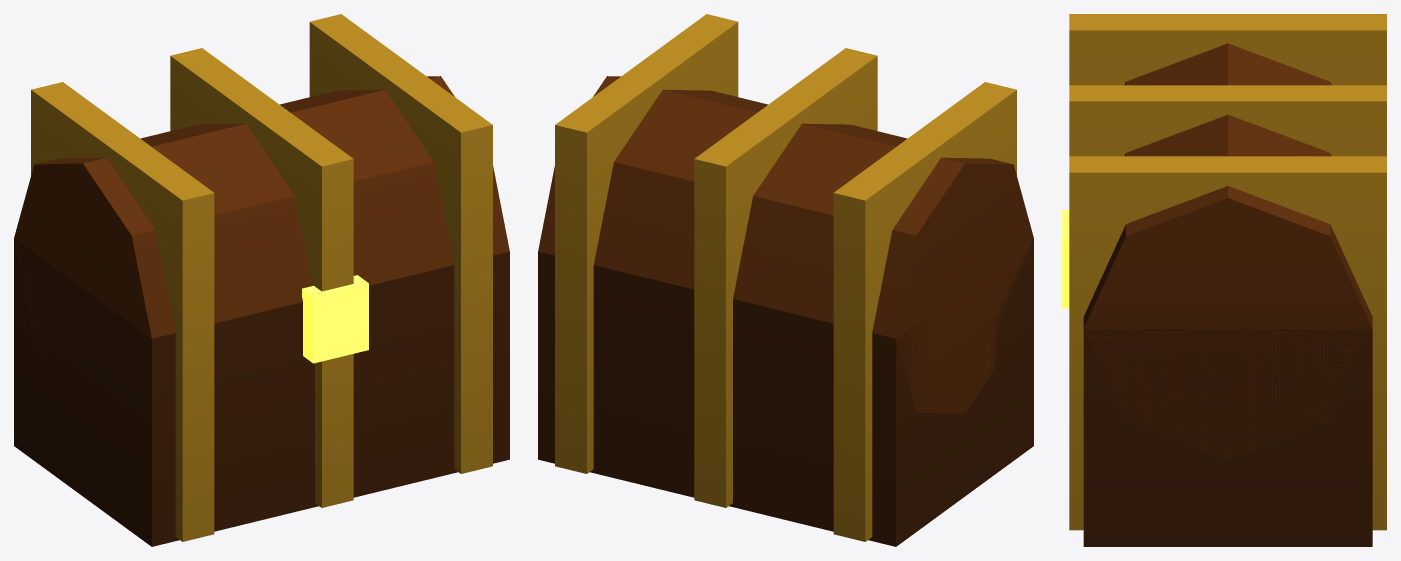
Rendered from chest_gold.glb.
3 renders of one model, left to right at view 1: azimuth 30°, elevation 25°; view 2: azimuth 150°, elevation 25°; view 3: azimuth 270°, elevation 25°, orthographic. The views are drawn at different scales.
Parts seen in each view (by area): view 1: chest_gold_root_body, chest_gold_root_glowF5C542; view 2: chest_gold_root_body; view 3: chest_gold_root_body, chest_gold_root_glowF5C542.
Part boxes in pixels (bbox=[...]): chest_gold_root_body: bbox=[14, 14, 509, 546]; chest_gold_root_glowF5C542: bbox=[302, 275, 368, 363]; chest_gold_root_body: bbox=[538, 14, 1033, 546]; chest_gold_root_body: bbox=[1069, 14, 1386, 546]; chest_gold_root_glowF5C542: bbox=[1062, 210, 1069, 308].
Bounding box in the file's own units: 0.9 × 0.83 × 0.675.
